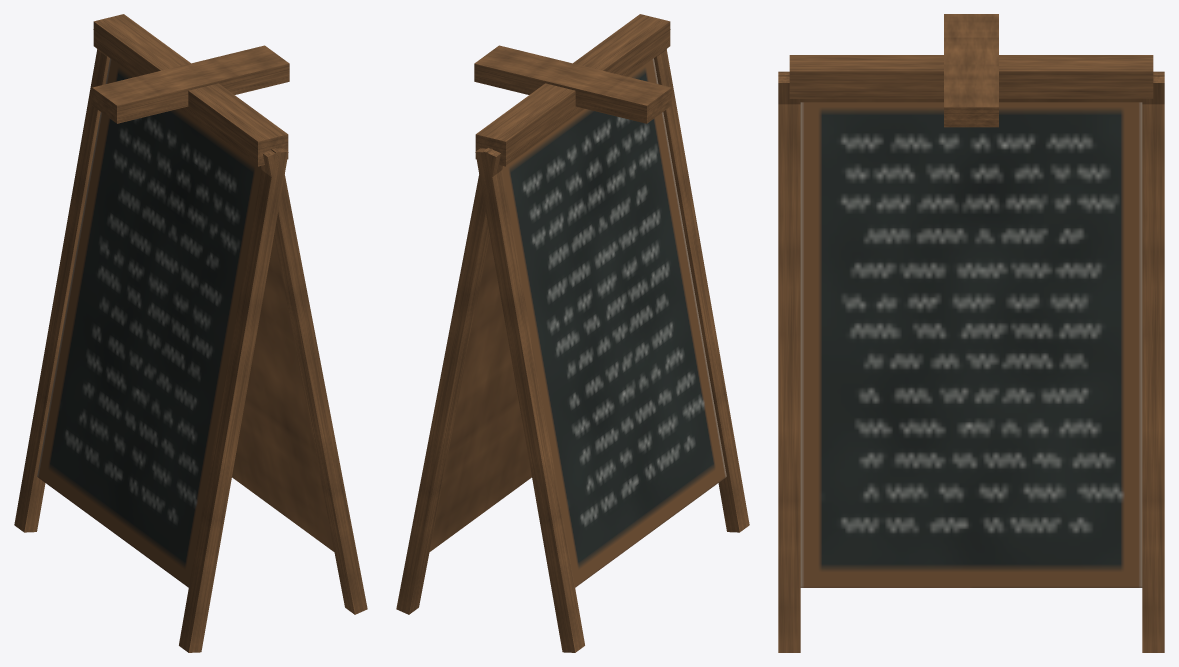
The model's file is SM_Molo_CavallettoMenu_LOD1.fbx.
The picture shows the model from 3 angles, left to right: view 1: azimuth 30°, elevation 25°; view 2: azimuth 150°, elevation 25°; view 3: azimuth 270°, elevation 25°; orthographic projection. The views are drawn at different scales.
Visible parts, largest first — view 1: SM_Molo_CavallettoMenu_LOD1; view 2: SM_Molo_CavallettoMenu_LOD1; view 3: SM_Molo_CavallettoMenu_LOD1.
Boxes of the visible parts, box(x1,y1,x2,y2) form: SM_Molo_CavallettoMenu_LOD1: box(14, 14, 367, 652); SM_Molo_CavallettoMenu_LOD1: box(396, 14, 749, 652); SM_Molo_CavallettoMenu_LOD1: box(778, 14, 1164, 652).
Bounding box in the file's own units: 41.47 × 70 × 109.
Materials: 1 (1 with a texture image).
